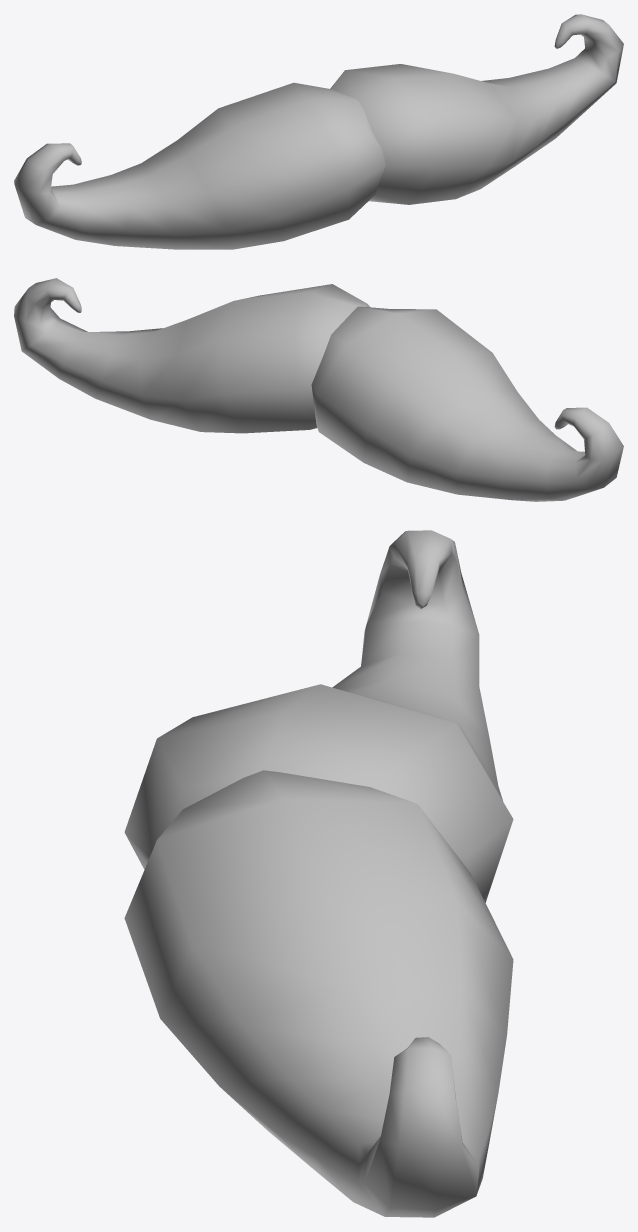
The model's file is Mustache_White_007.glb.
The picture shows the model from 3 angles, top to bottom: view 1: azimuth 30°, elevation 25°; view 2: azimuth 150°, elevation 25°; view 3: azimuth 270°, elevation 25°; orthographic projection. The views are drawn at different scales.
Visible parts, largest first — view 1: Mustache_White_007; view 2: Mustache_White_007; view 3: Mustache_White_007.
Boxes of the visible parts, x1,y1,x2,y2 form: Mustache_White_007: (14, 14, 623, 249); Mustache_White_007: (14, 278, 623, 501); Mustache_White_007: (124, 530, 513, 1217).
Size of the model in its own units: 0.245 by 0.052 by 0.0686.
1 material, 1 textured.
